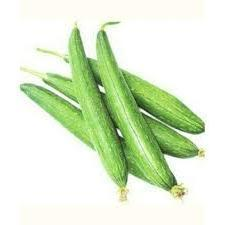sponge gourd: (19, 19, 205, 201), (94, 21, 186, 199), (67, 21, 129, 200), (117, 66, 205, 134)
